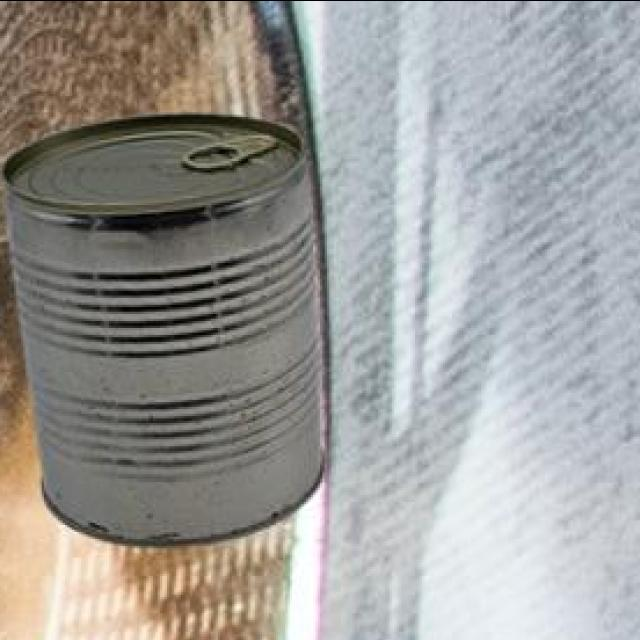logam: (0, 110, 321, 541)
